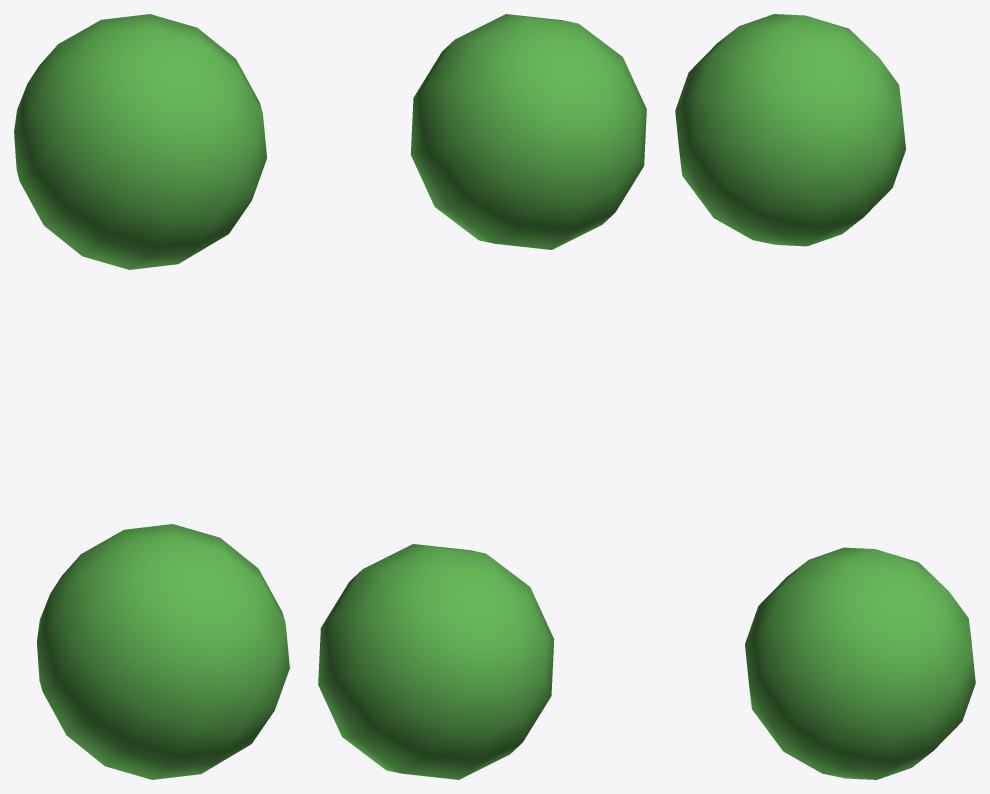
File: linfatico-infra-auricular-nodes-l.glb
3 views of the same model, side by side, from view 1: azimuth 30°, elevation 25°; view 2: azimuth 150°, elevation 25°; view 3: azimuth 270°, elevation 25° (orthographic). The views are drawn at different scales.
Parts seen in each view (by area): view 1: Infra-auricular nodes.l; view 2: Infra-auricular nodes.l; view 3: Infra-auricular nodes.l.
Boxes of the visible parts, x1,y1,x2,y2 form: Infra-auricular nodes.l: (14, 14, 289, 779); Infra-auricular nodes.l: (318, 14, 646, 779); Infra-auricular nodes.l: (675, 14, 975, 779).
Size of the model in its own units: 0.0033 by 0.00875 by 0.00332.
